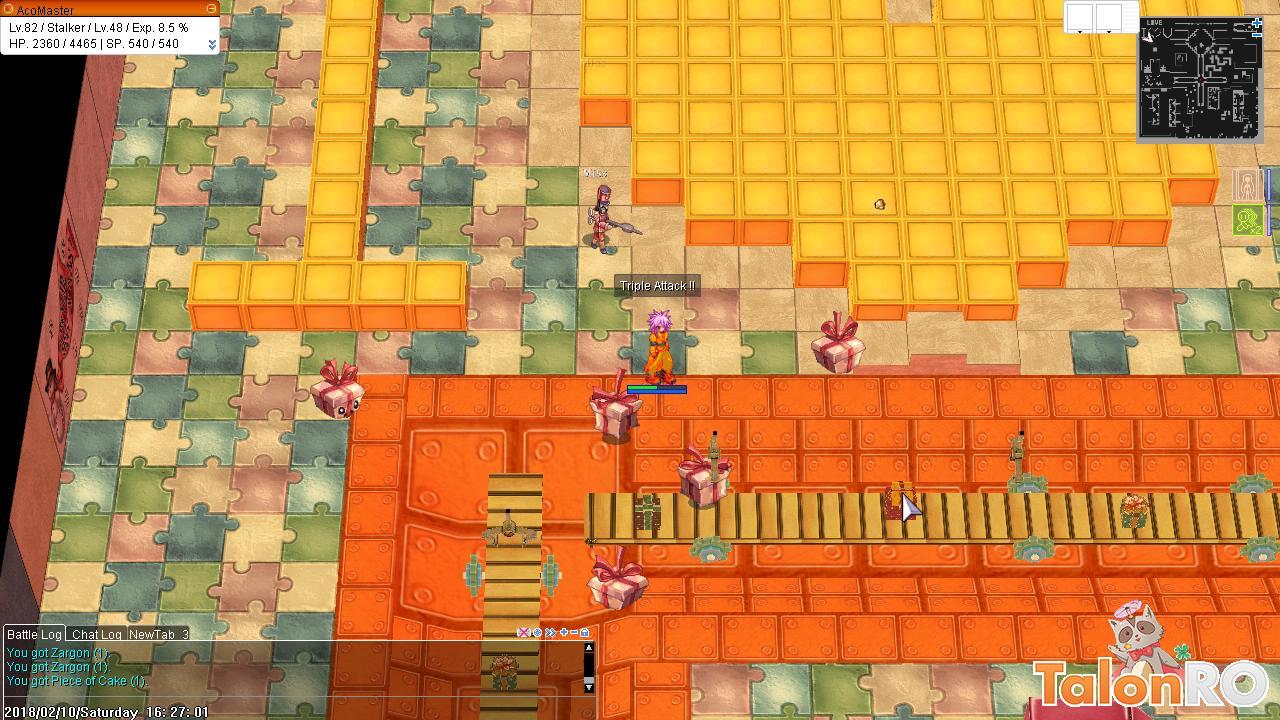loot: (865, 188, 894, 215)
mob: (573, 173, 643, 258)
myst_case: (578, 535, 658, 621), (304, 350, 377, 426), (581, 368, 642, 452), (670, 438, 736, 514), (807, 306, 870, 381)
